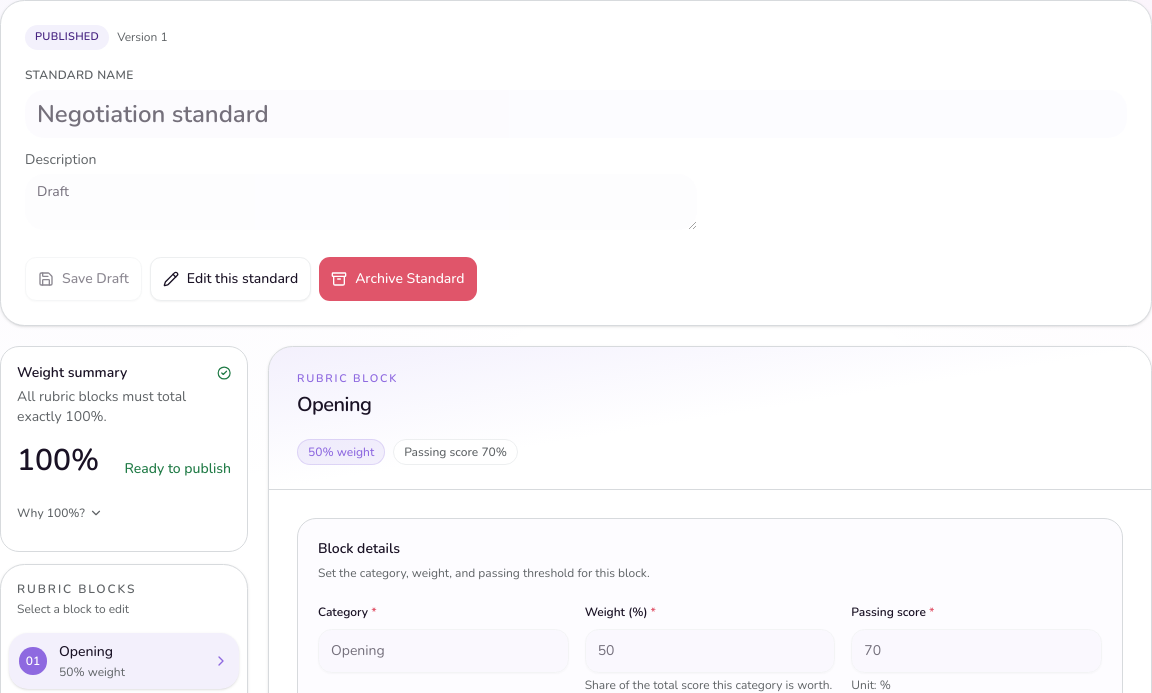
Scenario: StandardEditor reopening a published or archived standard for editing › confirms before reopening and explains the published version is unaffected
Click the button "Edit this standard": x=230, y=278 [150,256,311,300]
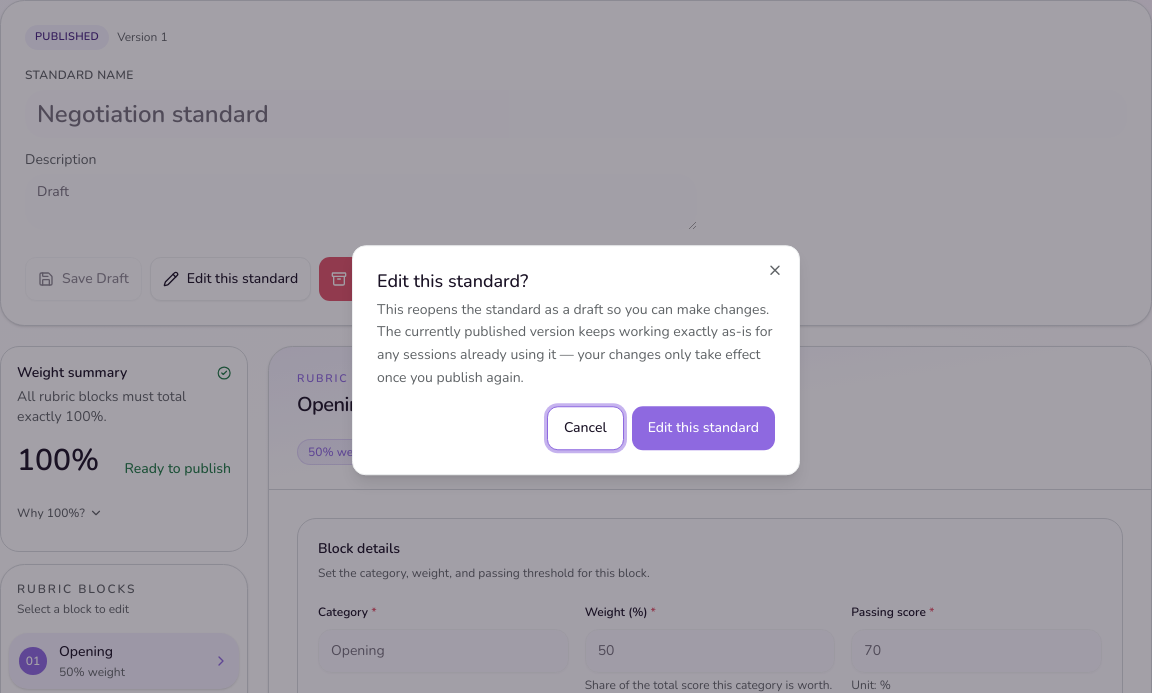
Check: the heading "Edit this standard?" is shown, box [377,269,528,293]
Check: the text "currently published version keeps working exactly as-is" is shown, box [377,300,773,387]
